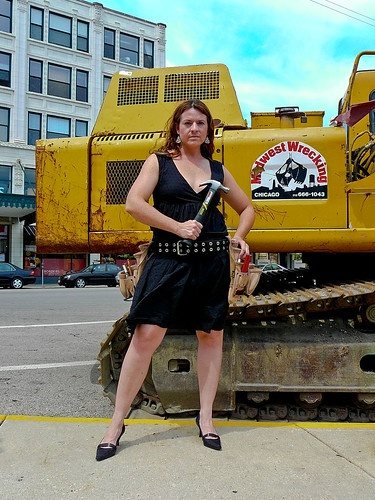hammer: (191, 179, 230, 219)
